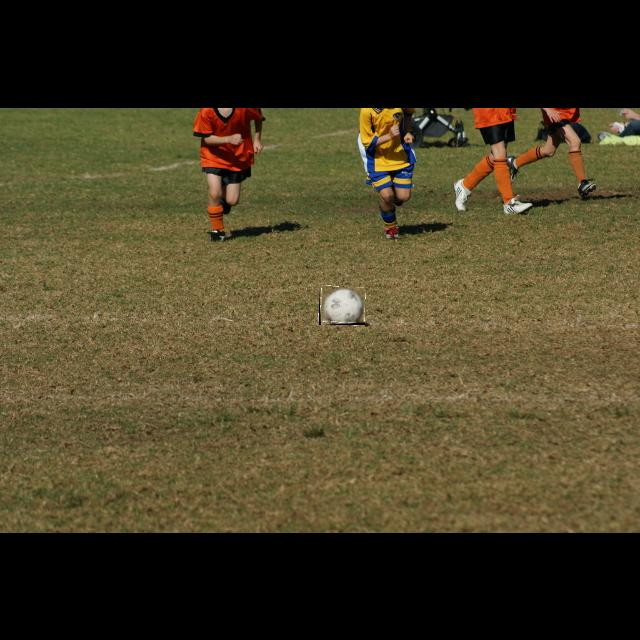Football: (319, 287, 365, 325)
